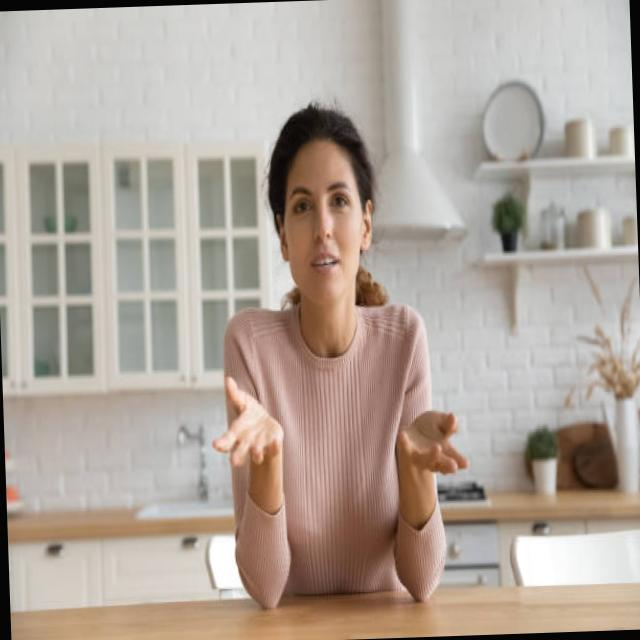Hand: (205, 366, 288, 484), (387, 403, 471, 487)
